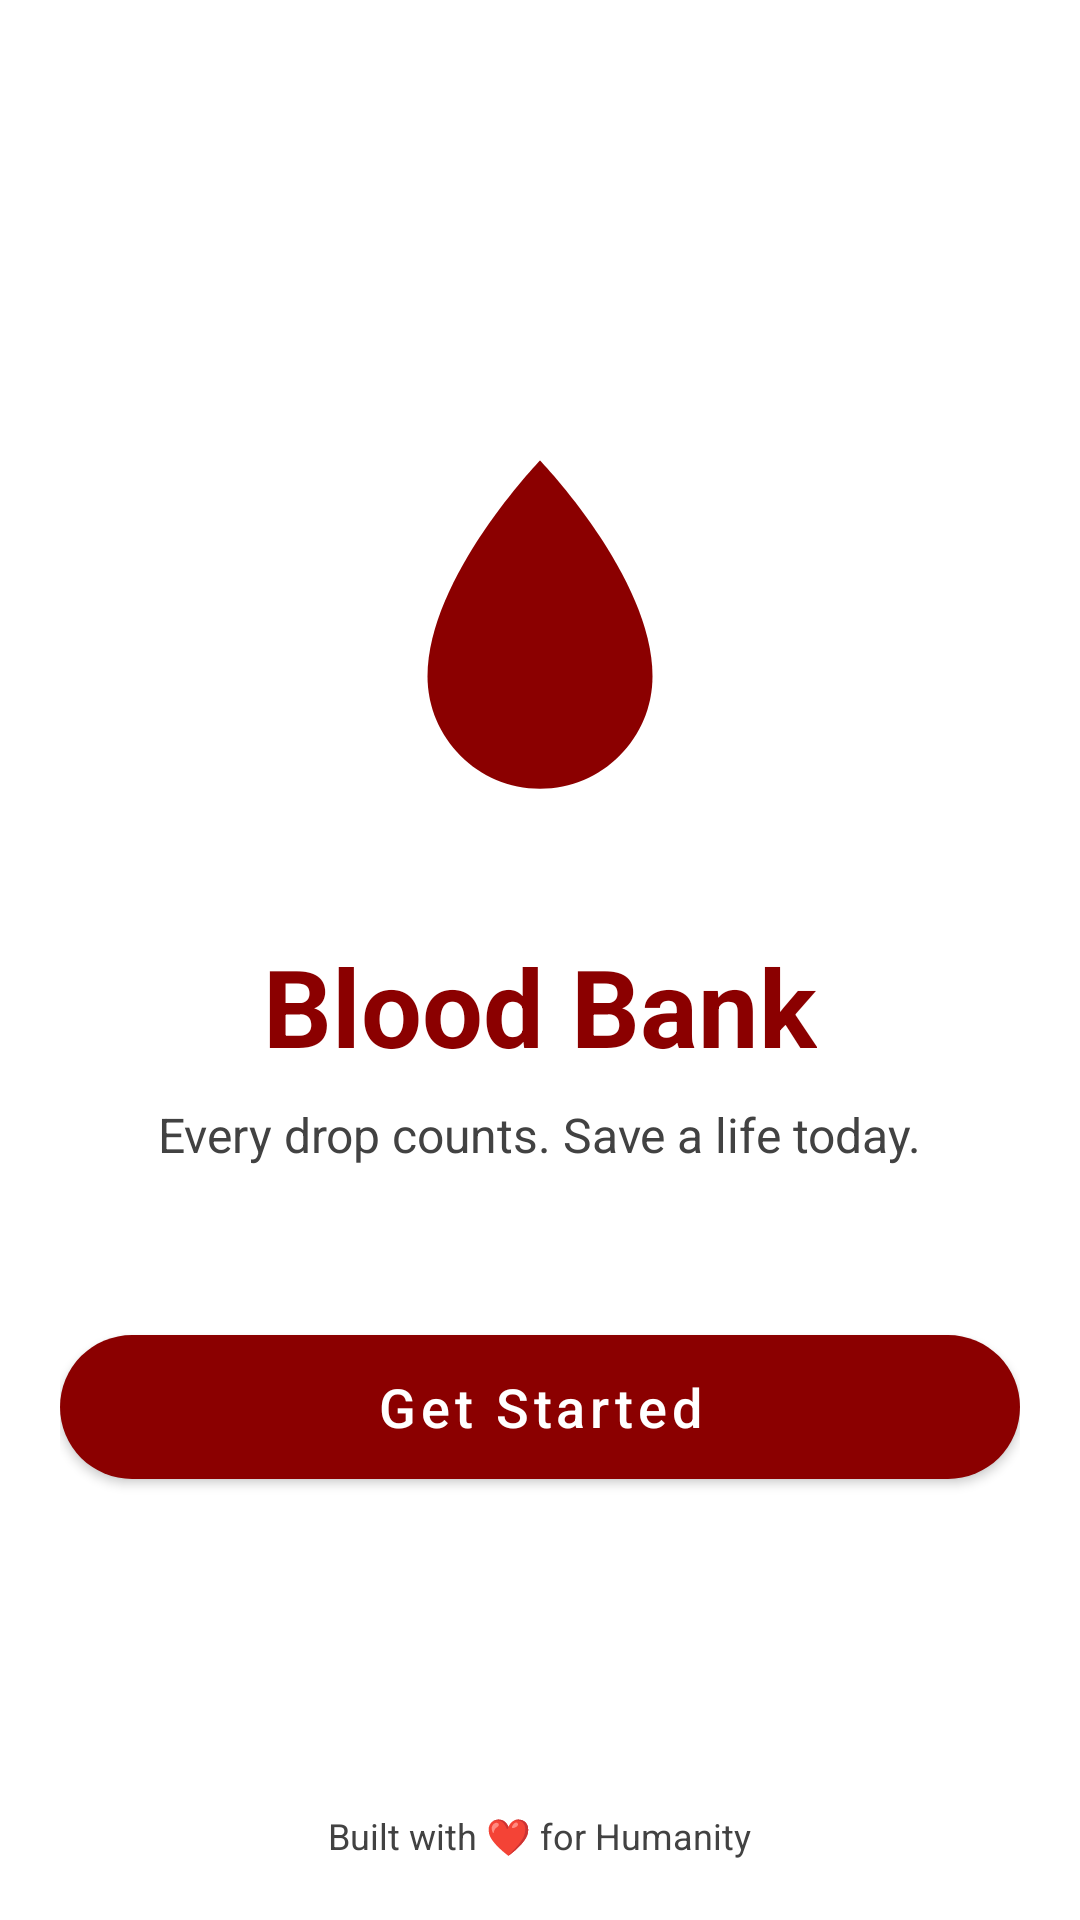

Icon click points for this 1080w x 1920h phone screenshot, format (x=x, y=y):
blood drop: (x=540, y=624)
